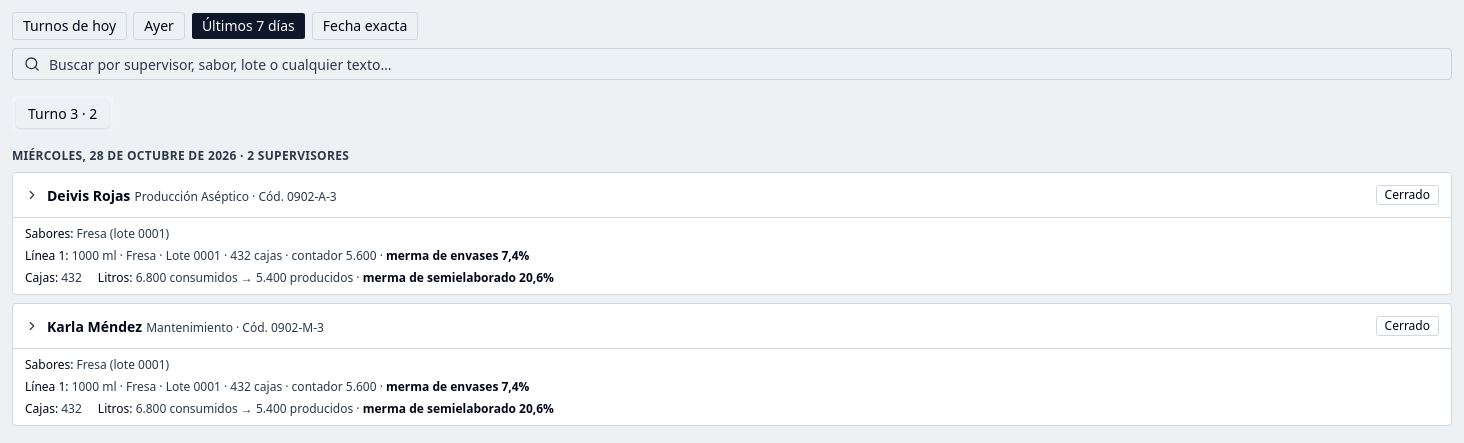
Test: AuditoriaTurnos › el buscador filtra la lista y las filas siguen contraídas
Type "Karla" into the field with placeholder "Buscar por supervisor, sabor, lote o cualquier texto…" at (732, 64), box [12,48,1452,80]
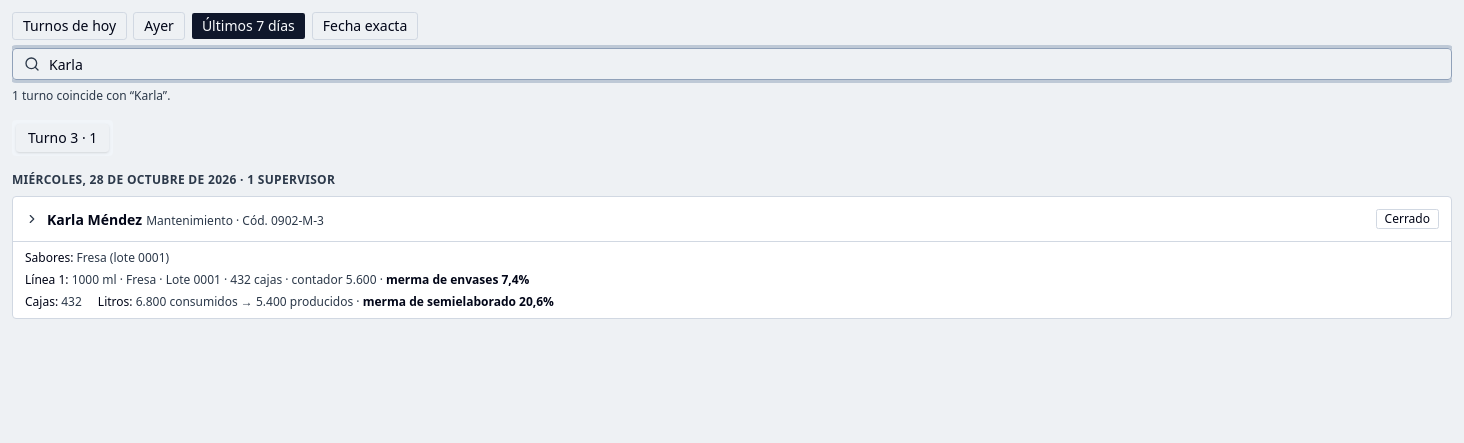
expect the text "Karla Méndez" is shown: met, box [47,210,142,229]
expect the text "1 turno coincide con “Karla”." is shown: met, box [12,87,170,104]
expect the button "Deivis Rojas" is gone: met
